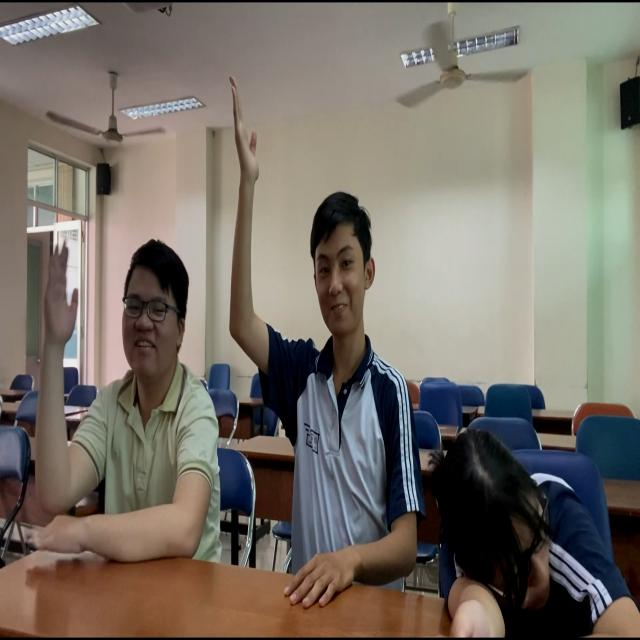raise_hand: (223, 86, 416, 614), (1, 230, 225, 635)
sleep: (428, 423, 639, 640)
